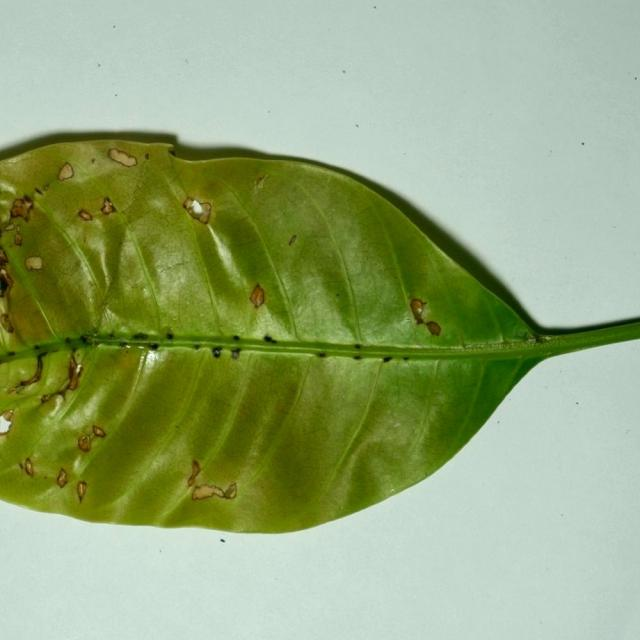Anthracnose: (177, 348, 322, 511), (1, 188, 96, 345), (274, 205, 364, 334), (47, 148, 165, 237), (103, 203, 173, 335), (463, 351, 537, 444), (319, 341, 563, 362), (218, 243, 269, 324), (69, 420, 109, 477), (0, 245, 18, 327), (117, 140, 178, 162), (410, 298, 440, 337), (9, 196, 35, 223), (191, 484, 228, 500), (107, 148, 138, 167), (3, 222, 24, 248), (0, 408, 15, 435), (187, 459, 201, 487), (529, 330, 555, 345), (57, 161, 75, 181), (31, 182, 52, 198), (19, 458, 34, 478), (2, 153, 27, 165), (254, 174, 268, 190), (77, 209, 93, 222), (5, 385, 22, 395), (288, 234, 297, 246), (5, 224, 16, 231)
Mango: (0, 134, 639, 537)
